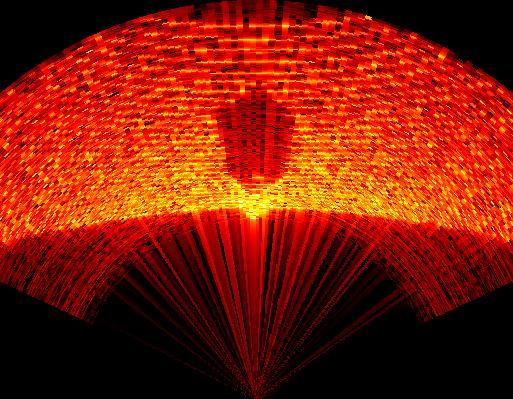box_crate: (216, 88, 302, 223)
